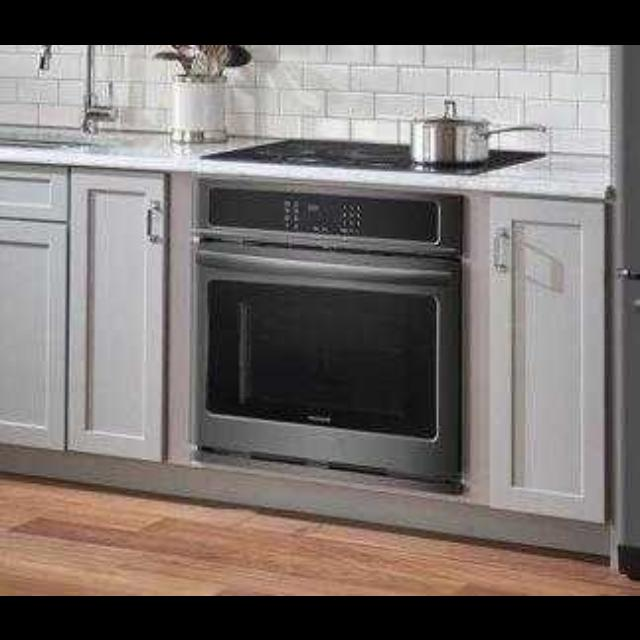Oven: (192, 257, 463, 478)
